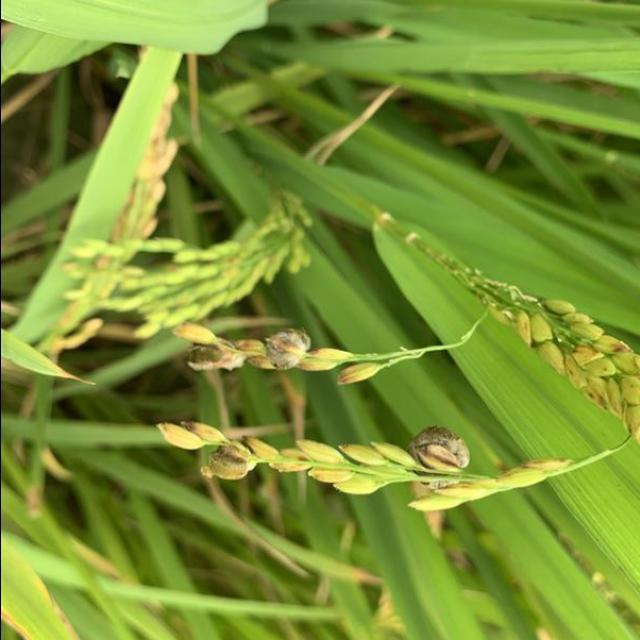Leaf_Scald: (406, 424, 474, 492), (202, 435, 260, 486), (262, 324, 314, 374), (185, 332, 236, 374)
